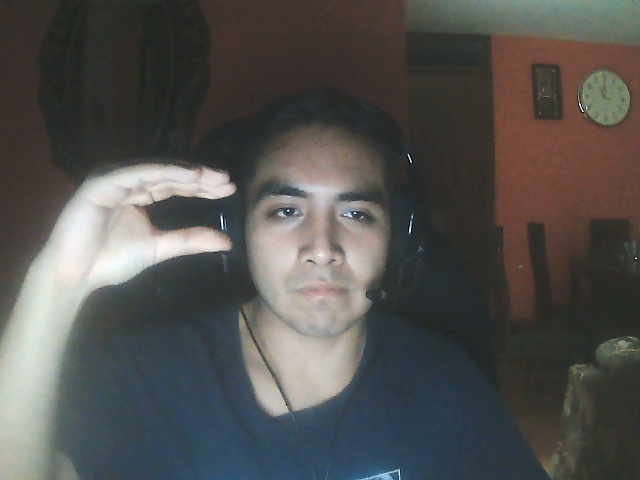no: (38, 156, 236, 293)
